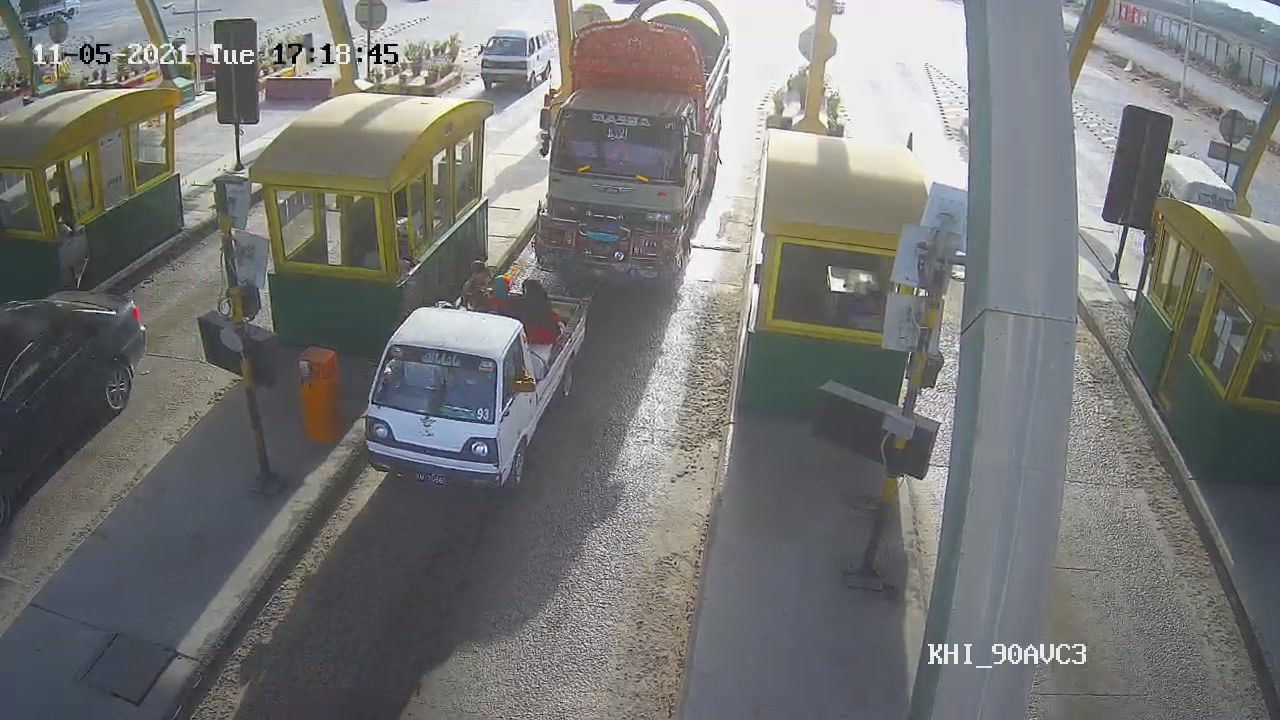F1: (351, 279, 604, 509)
F5: (530, 1, 730, 280)
